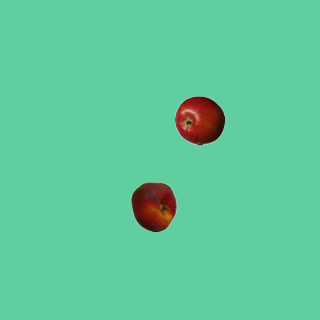Apple Braeburn: (174, 95, 224, 145)
Nectarine Flat: (128, 181, 178, 231)
